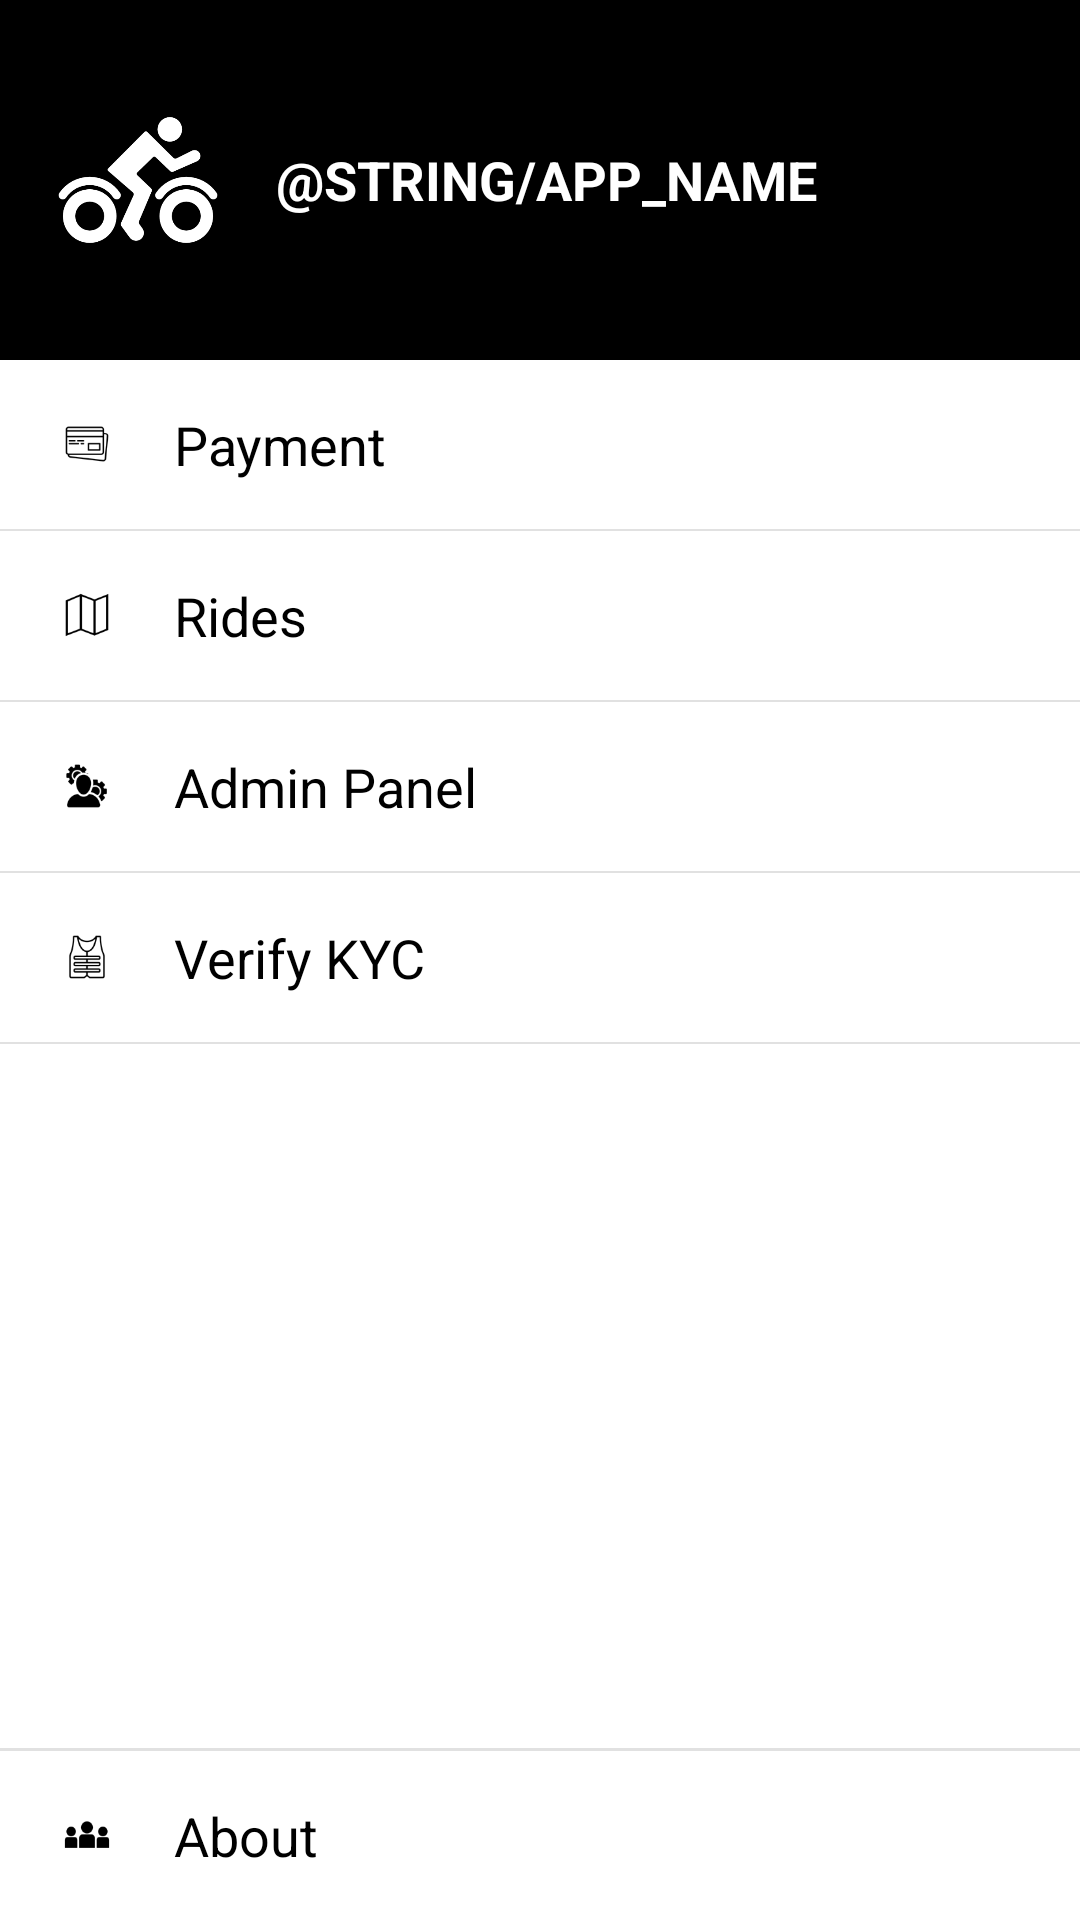

Icon bounding boxes for this 1080 x 1920 phone screenshot, format (x1, y1, x2, y2):
trips: (65, 594, 109, 636)
